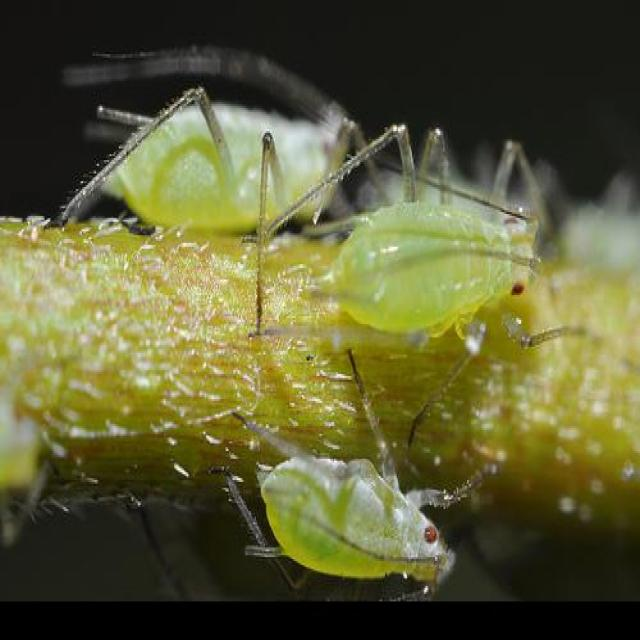Aphids: (62, 29, 354, 291), (290, 152, 582, 374), (205, 390, 490, 606)
